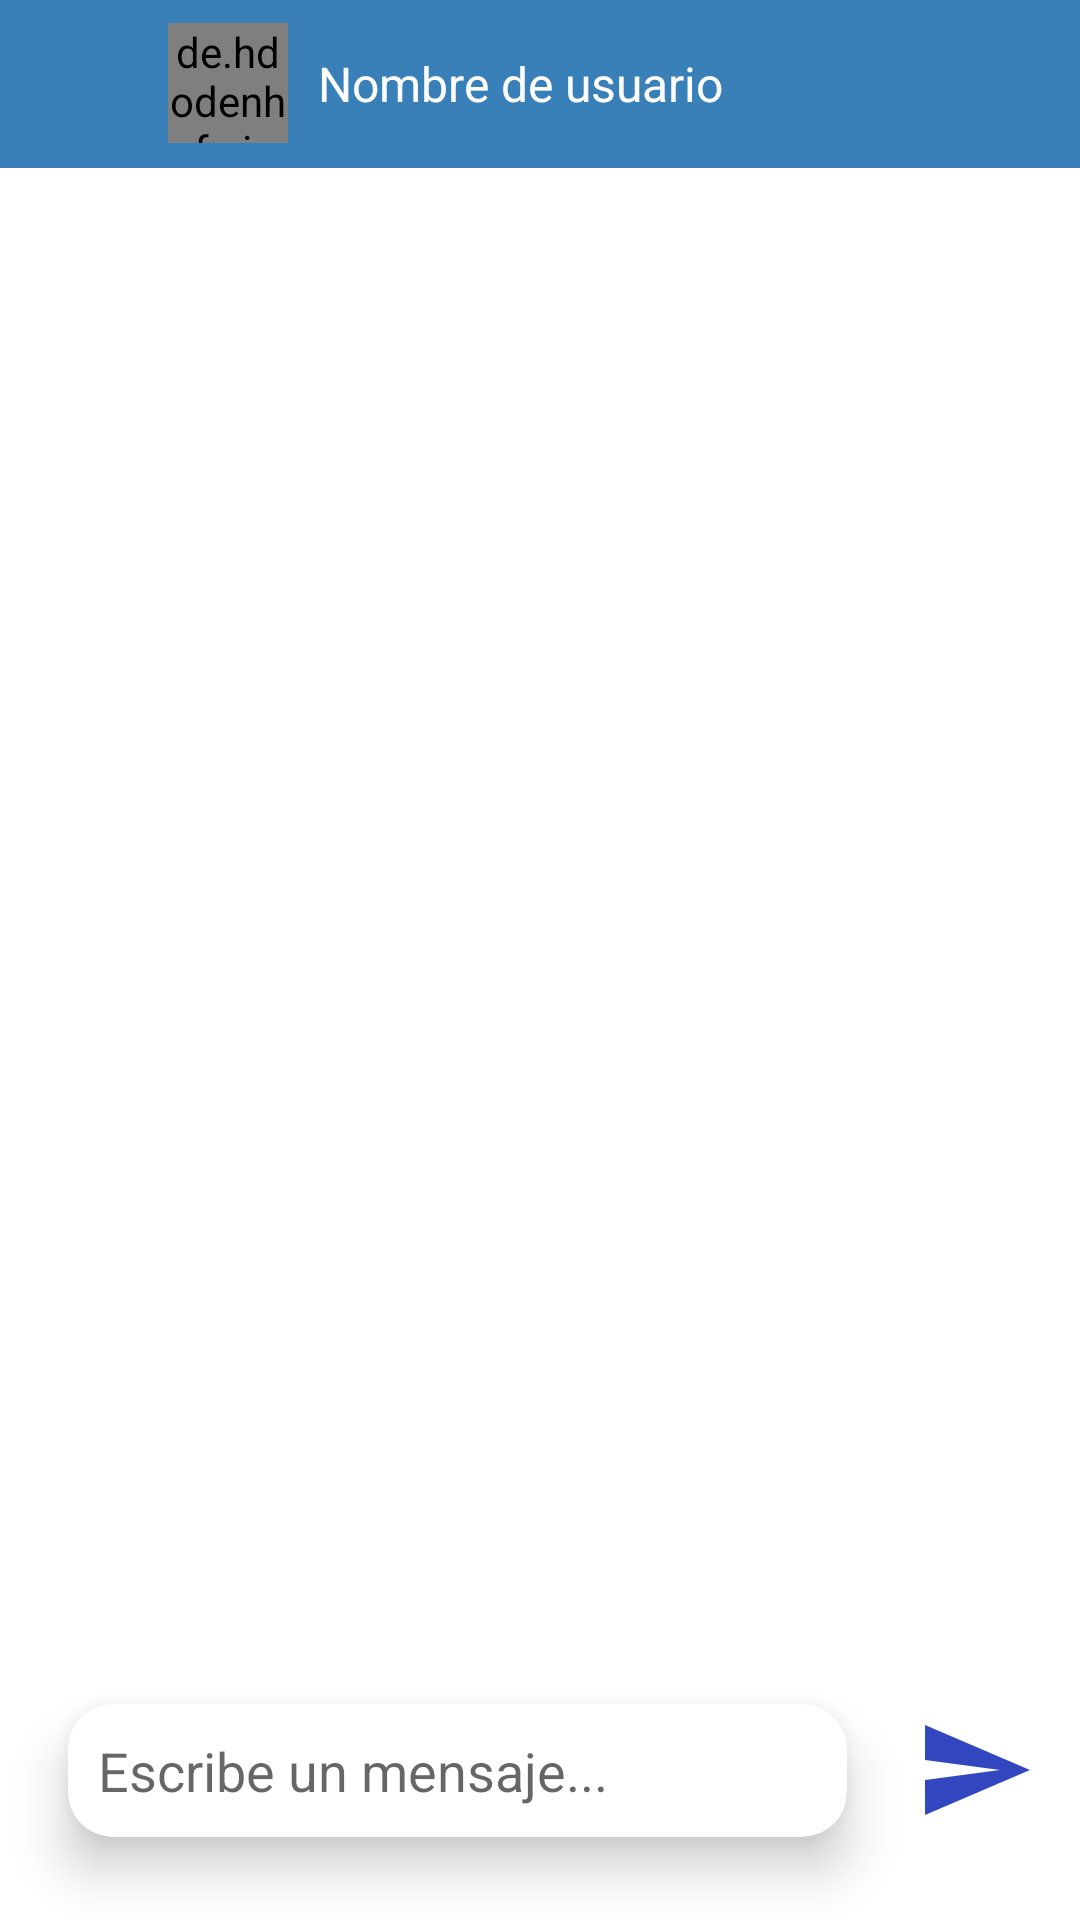

Where icons sit on this 1080px x 1920px app screen, as (x1, y1, x2, y2):
send: (925, 1725, 1030, 1815)
